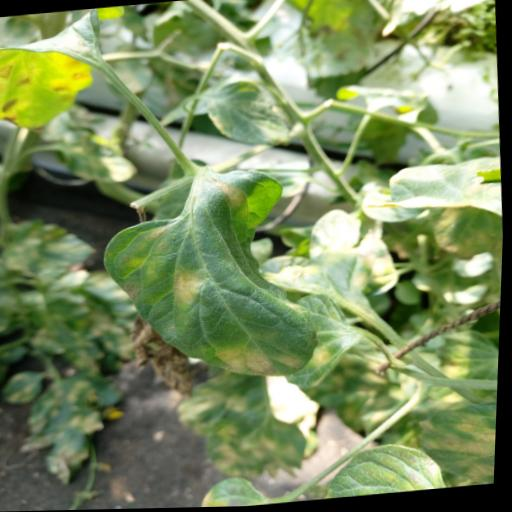Leaf Mold: (97, 167, 329, 393), (0, 6, 132, 135), (409, 401, 500, 493)
